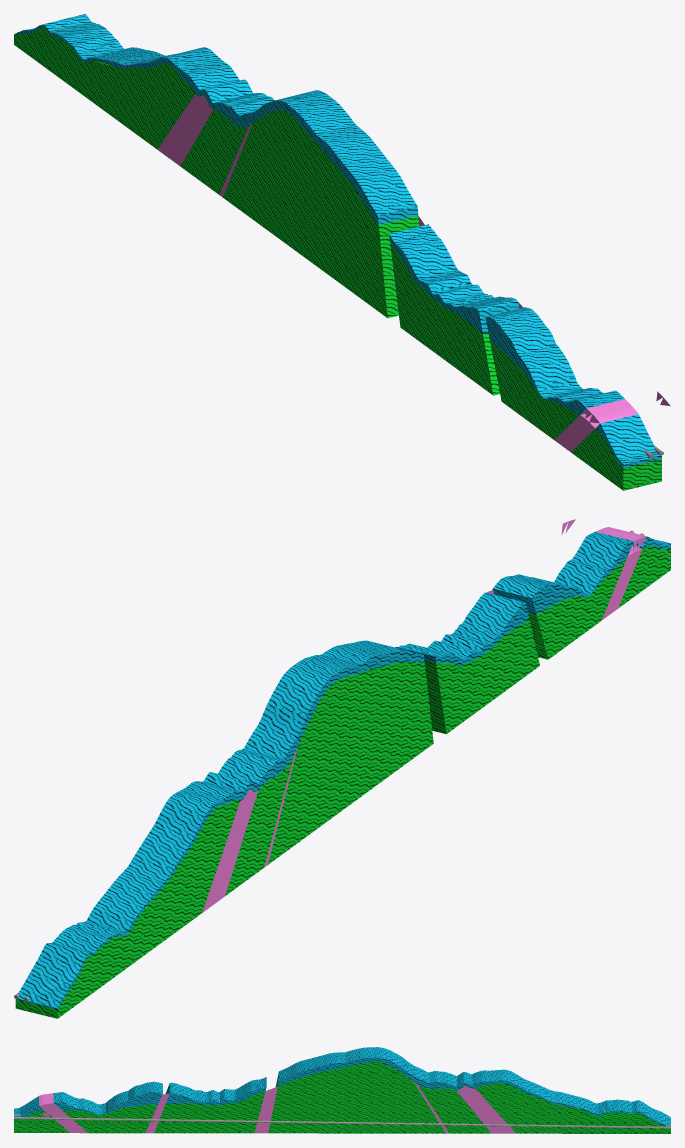
File: bls_Sec.obj
3 views of the same model, one above another, from view 1: azimuth 30°, elevation 25°; view 2: azimuth 150°, elevation 25°; view 3: azimuth 270°, elevation 25° (orthographic). The views are drawn at different scales.
Parts seen in each view (by area): view 1: 0, 1, fractures; view 2: 0, 1, fractures; view 3: 0, 1, fractures, tunnel_right.
Boxes of the visible parts, x1,y1,x2,y2 form: 0: (14,26,661,490); 1: (14,14,661,468); fractures: (157,94,670,451); 0: (15,545,670,1018); 1: (15,531,670,1009); fractures: (202,519,647,912); 0: (14,1061,670,1133); 1: (14,1047,670,1126); fractures: (39,1082,515,1133); tunnel_right: (14,1117,670,1128).
Size of the model in its own units: 200 by 380 by 2981.
Materials: 4 (3 with a texture image).
